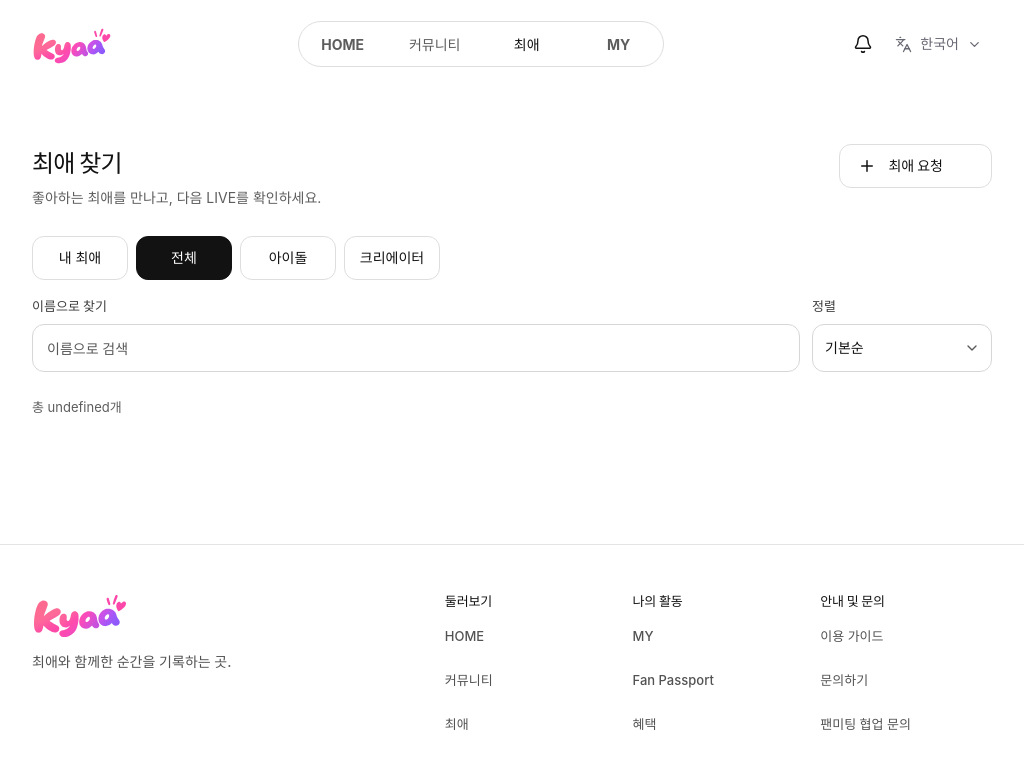
Test: published celebrity directory › keeps the Passport filter unavailable when the API DTO is malformed
Click the button "내 최애".
click(80, 258)  # box [32,236,128,280]
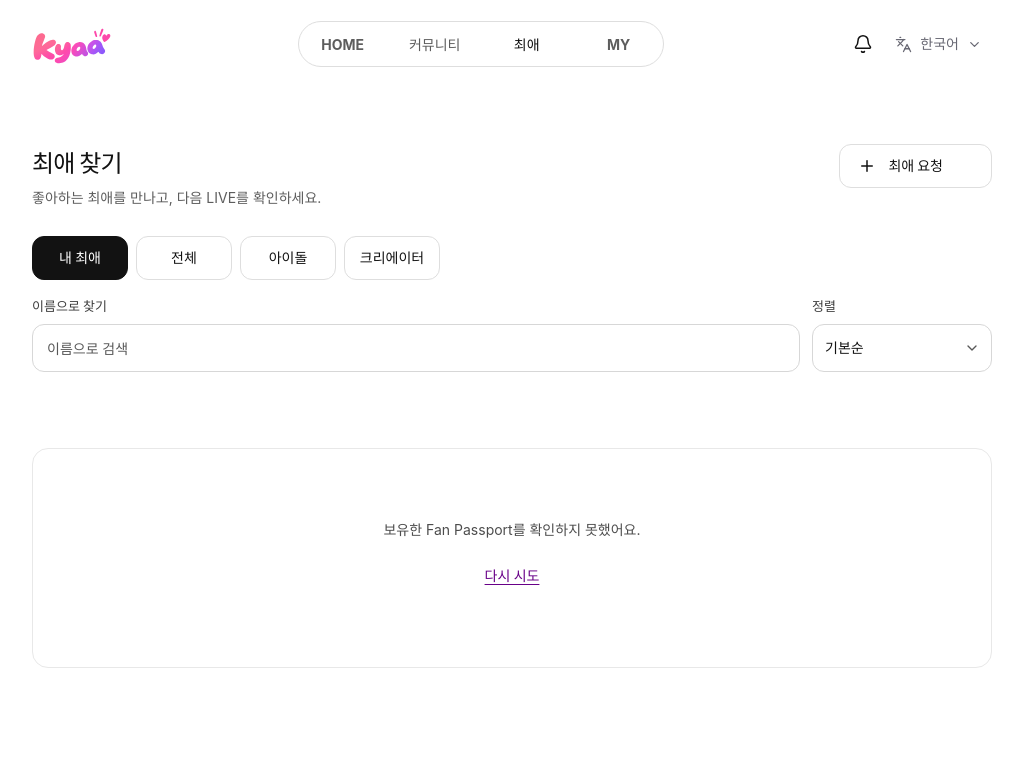
Result: the message shows "보유한 Fan Passport를 확인하지 못했어요." at [384,521,640,538]
